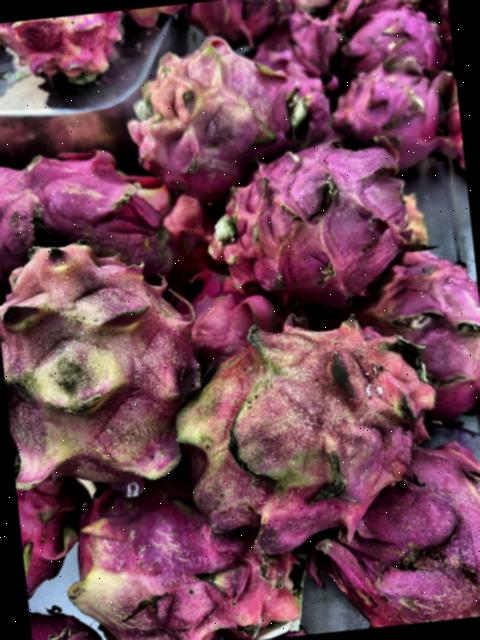buah-naga-belum-matang: (170, 291, 464, 546), (0, 225, 196, 500), (82, 464, 306, 640), (122, 23, 298, 183)
buah-naga-matang: (212, 122, 430, 310), (330, 428, 480, 629), (0, 141, 187, 300), (355, 237, 480, 421), (335, 59, 450, 171), (183, 257, 303, 360), (0, 12, 117, 90), (338, 0, 452, 80), (274, 50, 342, 147), (258, 5, 344, 81)
